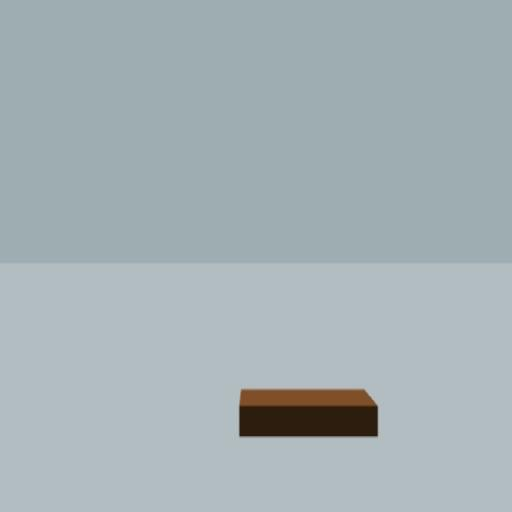debris_container: (236, 388, 380, 439)
